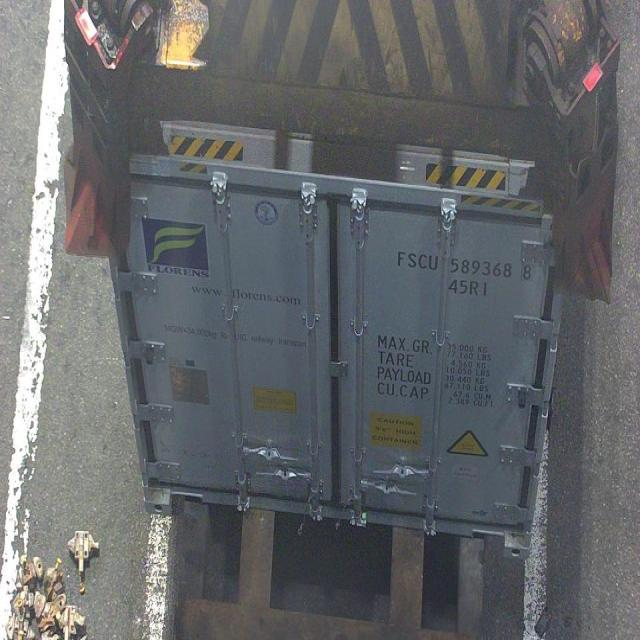ISO: (446, 280, 492, 301)
container_number: (396, 246, 538, 276)
